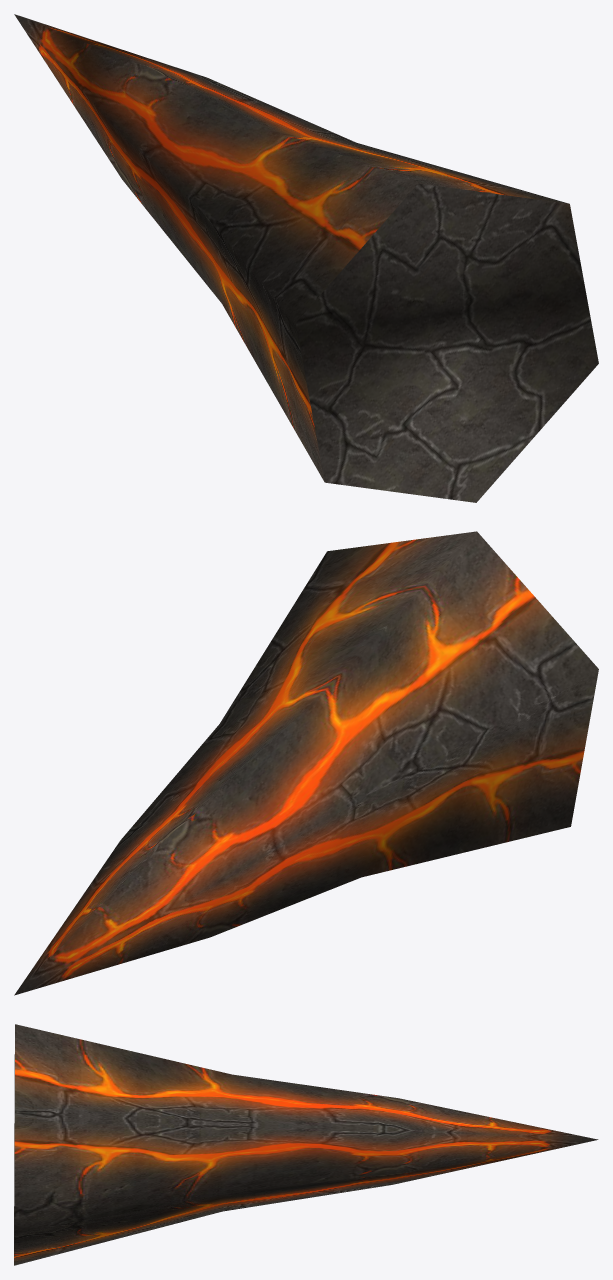
The model's file is stalactite_09.obj.
3 views of the same model, one above another, from view 1: azimuth 30°, elevation 25°; view 2: azimuth 150°, elevation 25°; view 3: azimuth 270°, elevation 25° (orthographic). The views are drawn at different scales.
Visible parts, largest first — view 1: (null); view 2: (null); view 3: (null).
Boxes of the visible parts, <box> form: (null): <box>14,14,598,502</box>; (null): <box>14,531,598,995</box>; (null): <box>14,1024,598,1265</box>.
Size of the model in its own units: 2.14 by 2.25 by 5.35.
